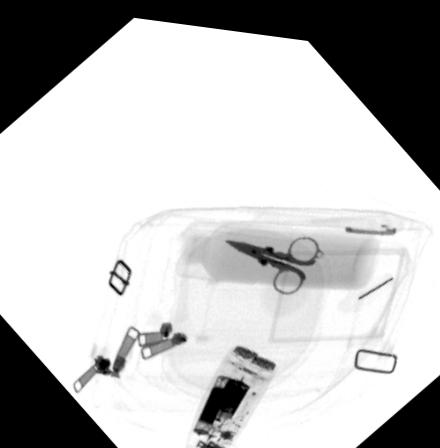Scissors: (221, 225, 320, 288)
